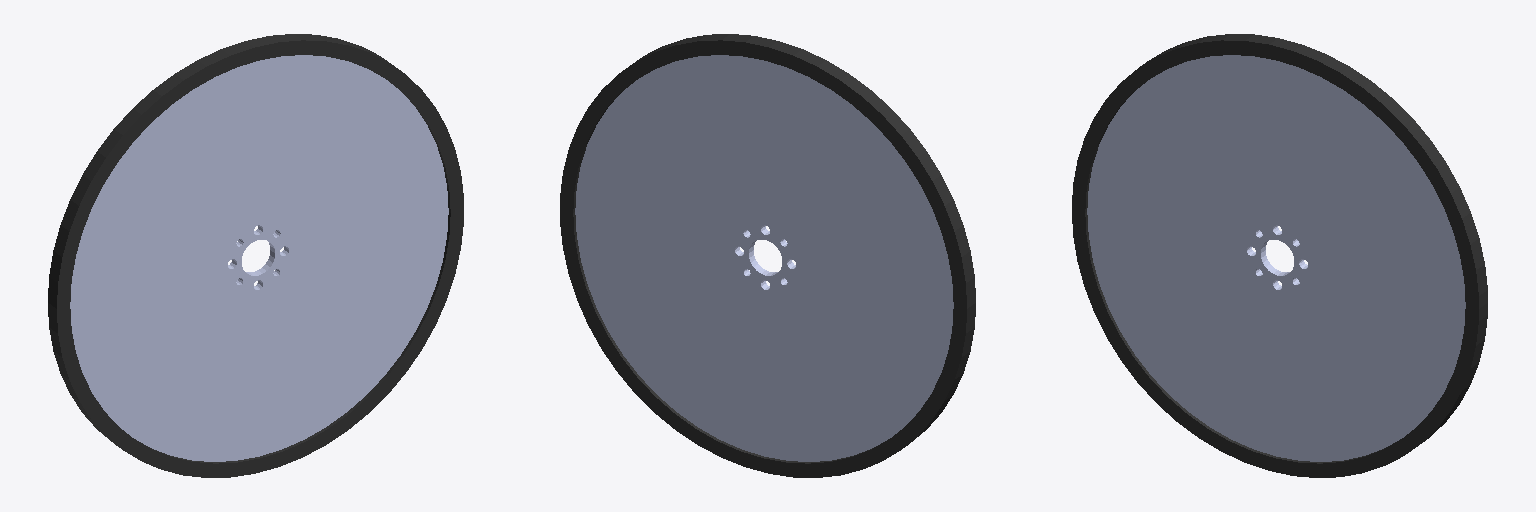
The model's file is ROB-12385.obj.
3 renders of one model, left to right at view 1: azimuth 30°, elevation 25°; view 2: azimuth 150°, elevation 25°; view 3: azimuth 330°, elevation 25°, orthographic.
Parts seen in each view (by area): view 1: mesh 2 Boss-Extrude1, mesh 1 RO; view 2: mesh 2 Boss-Extrude1, mesh 1 RO; view 3: mesh 2 Boss-Extrude1, mesh 1 RO.
Boxes of the visible parts, box(x1,y1,x2,y2) form: mesh 2 Boss-Extrude1: box(70, 55, 448, 461); mesh 1 RO: box(48, 34, 463, 477); mesh 2 Boss-Extrude1: box(575, 55, 953, 461); mesh 1 RO: box(560, 34, 975, 477); mesh 2 Boss-Extrude1: box(1087, 55, 1465, 461); mesh 1 RO: box(1072, 34, 1487, 477).
Size of the model in its own units: 0.1524 by 0.1523 by 0.0058.